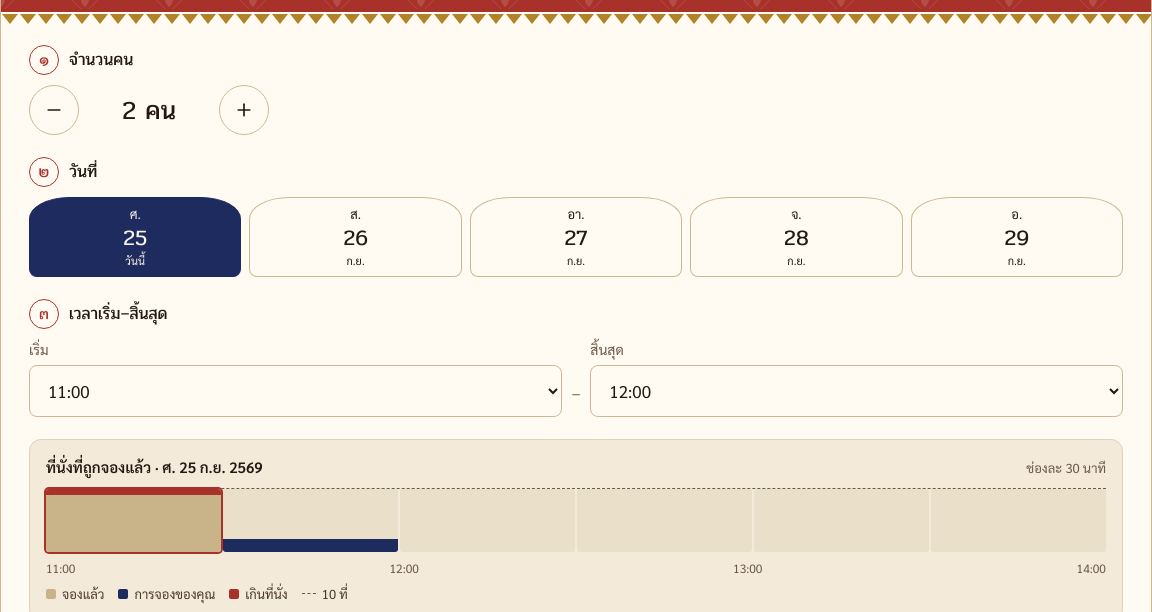
Test case: BookingTicket › ที่นั่งไม่พอ → ปุ่มจองปิด · ลดคนลงแล้วจองได้
The image size is (1152, 612).
Click the button named "ลดจำนวนคน" at [54, 110], box [29,85,79,135]
(page scrolled)
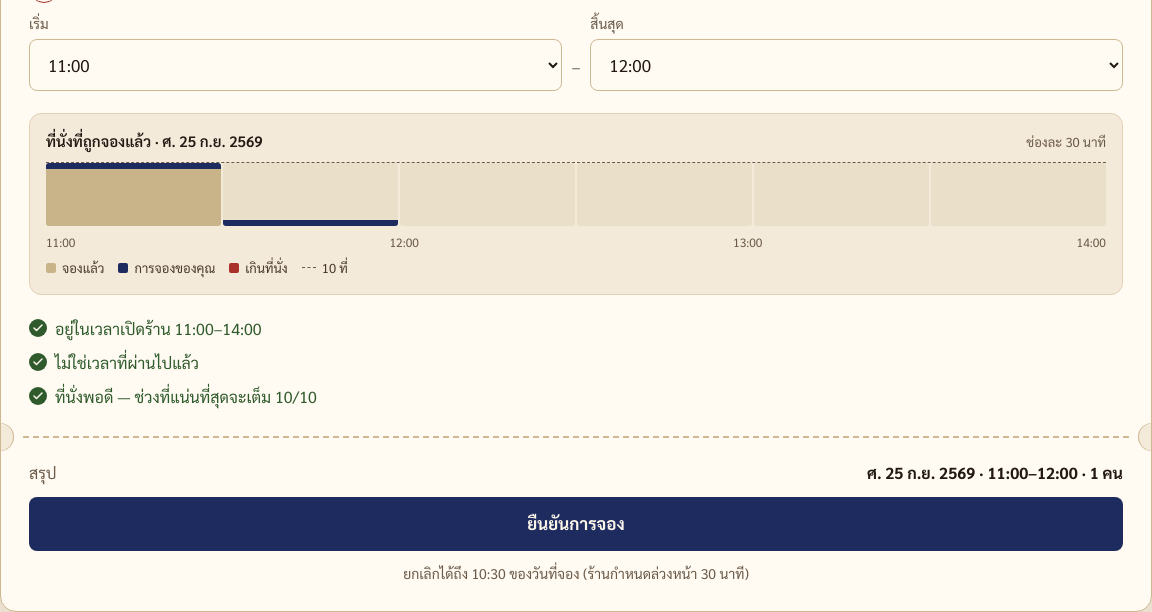
Expected: the text "ที่นั่งพอดี — ช่วงที่แน่นที่สุดจะเต็ม 10/10" is shown, [55,384,317,408]
Expected: the button "ยืนยันการจอง" is enabled, [29,496,1123,550]
